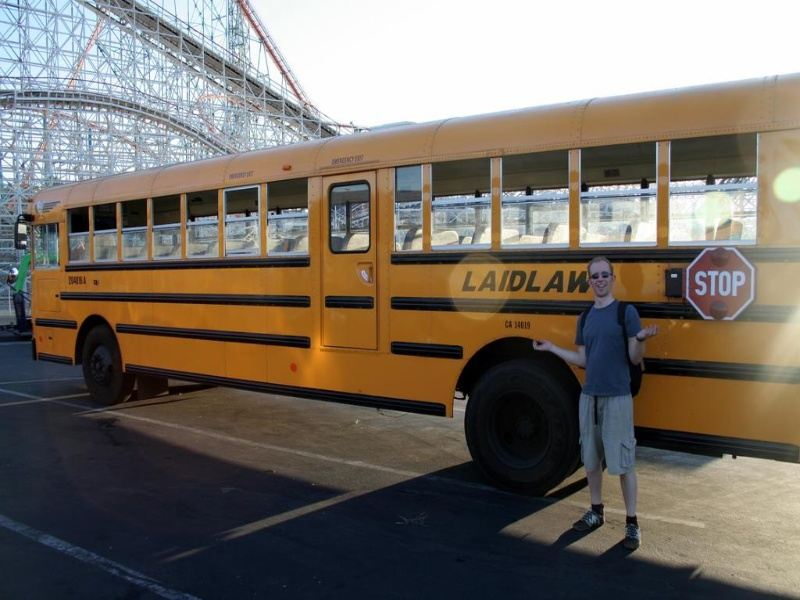stop: (687, 235, 770, 334)
